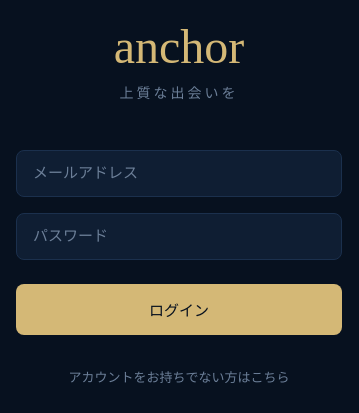
Scenario: LoginScreen › signIn失敗時にエラーが表示される
Type "test@example.com" into the field with placeholder "メールアドレス" at (179, 173), box [16,150,342,196]
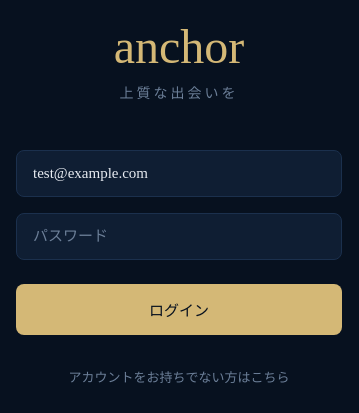
Type "wrongpass1" into the password field with placeholder "パスワード" at (179, 236), box [16,212,342,260]
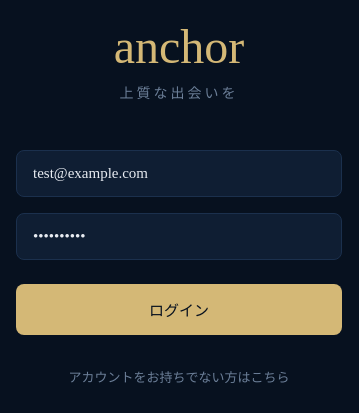
Click the text "ログイン" at (179, 309), box [149,298,209,320]
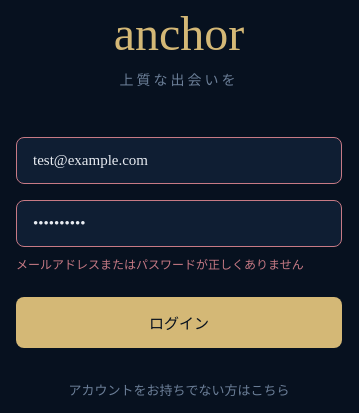
Now the text "メールアドレスまたはパスワードが正しくありません" is shown, box [16,254,342,272]
